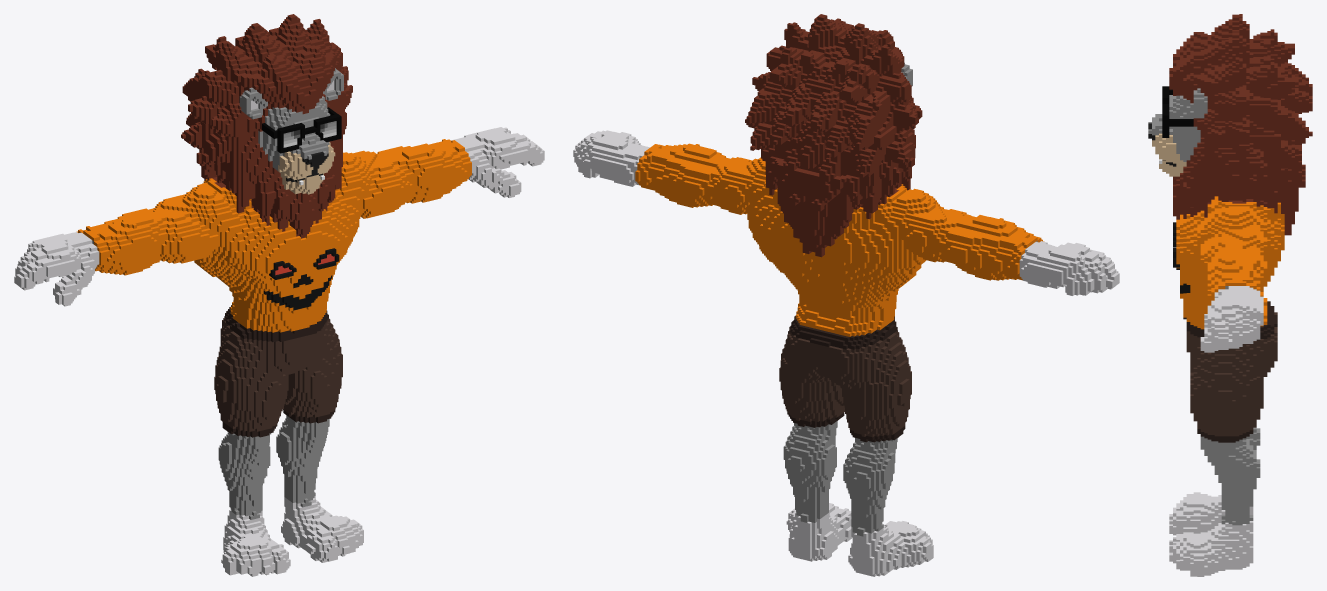
File: 519-DPhLXUD4.fbx
3 renders of one model, left to right at view 1: azimuth 30°, elevation 25°; view 2: azimuth 150°, elevation 25°; view 3: azimuth 270°, elevation 25°, orthographic. The views are drawn at different scales.
Visible parts, largest first — view 1: standard; view 2: standard; view 3: standard.
Part boxes in pixels (x1,y1,x2,y2): standard: [14, 14, 544, 576]; standard: [573, 14, 1119, 576]; standard: [1148, 14, 1312, 576].
Bounding box in the file's own units: 17.2 × 16.5 × 4.7.
Materials: 5 (5 with a texture image).
